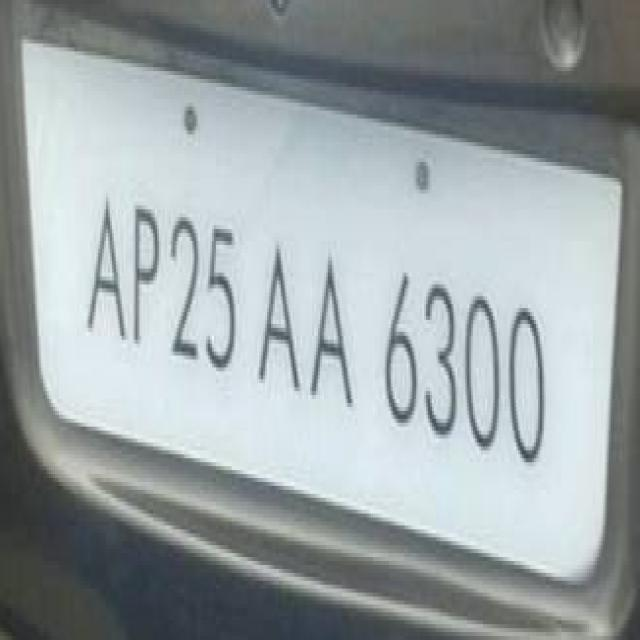license_plate: (29, 28, 585, 545)
